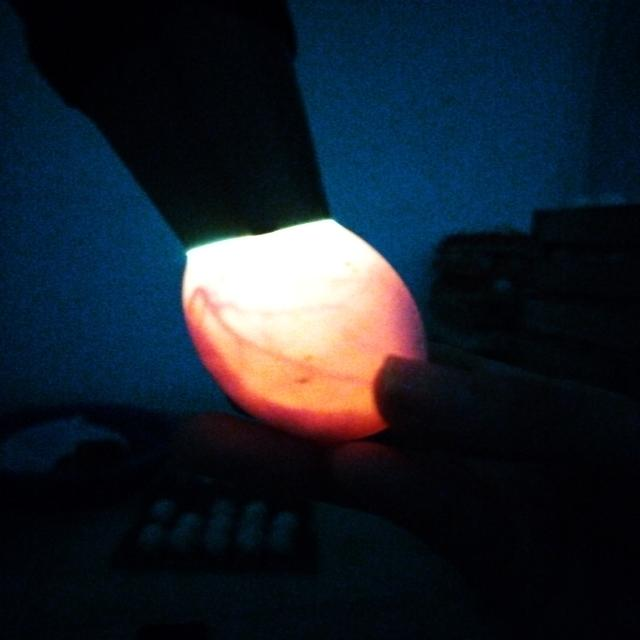Embriao: (186, 294, 427, 442)
